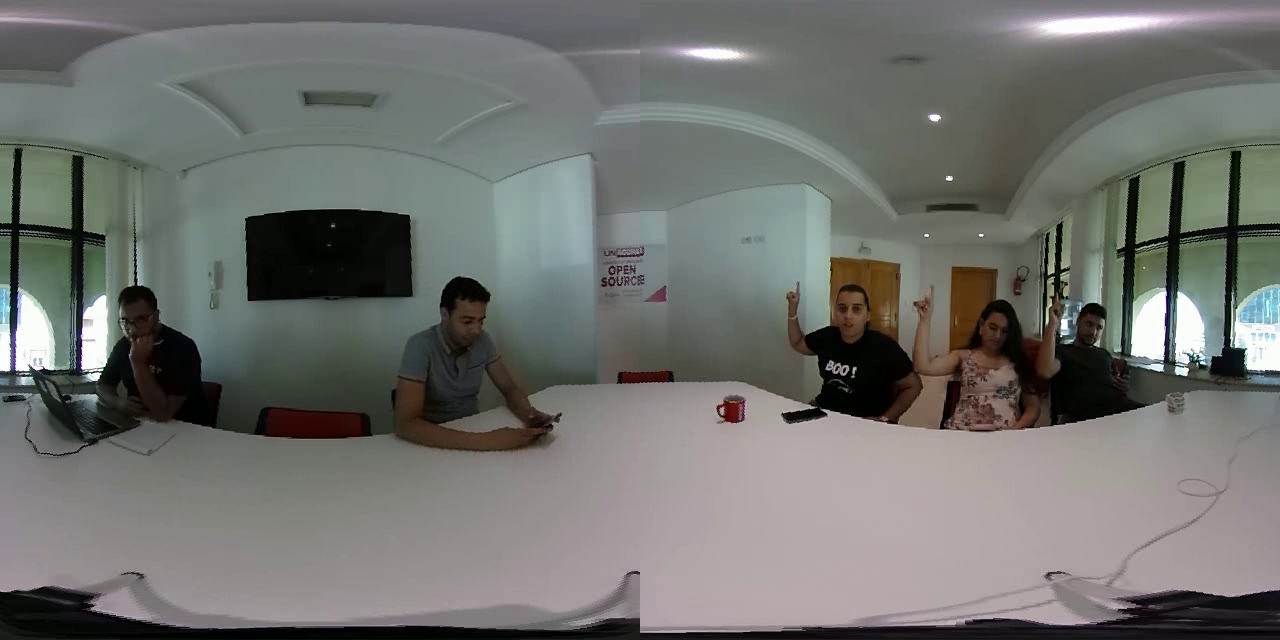hand_up: (777, 262, 822, 365), (913, 271, 947, 389), (1040, 279, 1069, 388)
person: (381, 257, 529, 456), (773, 261, 912, 439), (913, 272, 1034, 435), (92, 270, 206, 423), (1037, 272, 1136, 423)
